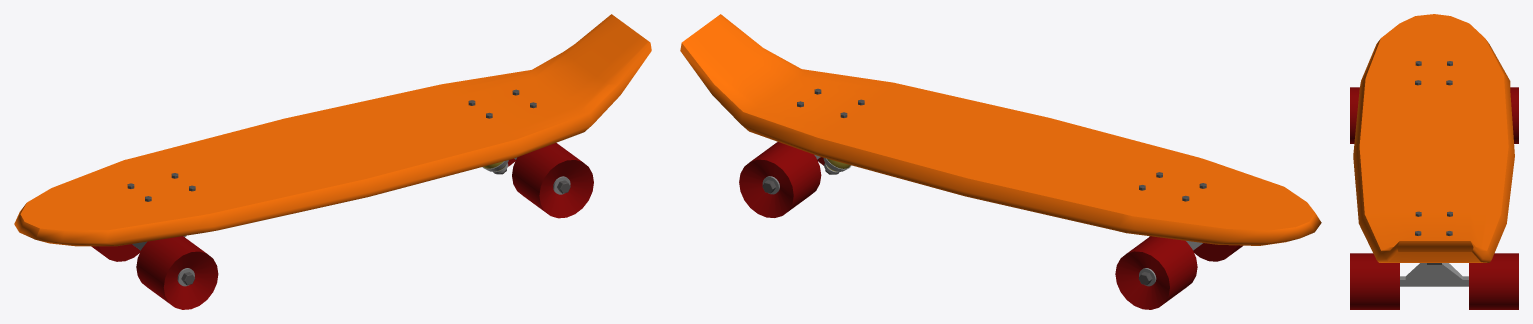
The picture shows the model from 3 angles, left to right: view 1: azimuth 30°, elevation 25°; view 2: azimuth 150°, elevation 25°; view 3: azimuth 270°, elevation 25°; orthographic projection. The views are drawn at different scales.
Parts seen in each view (by area): view 1: Board, Wheel (×3); view 2: Board, Wheel (×3); view 3: Board, Wheel (×4), Axle_Support, Axle.
Boxes of the visible parts, box(x1,y1,x2,y2) form: Board: box(14, 14, 651, 246); Wheel (×3): box(91, 143, 593, 309); Board: box(680, 14, 1321, 245); Wheel (×3): box(739, 142, 1242, 309); Board: box(1353, 14, 1514, 262); Wheel (×4): box(1350, 87, 1518, 309); Axle_Support: box(1405, 263, 1462, 279); Axle: box(1400, 276, 1468, 286).
Bounding box in the file's own units: 13.92 × 2.78 × 3.67.
